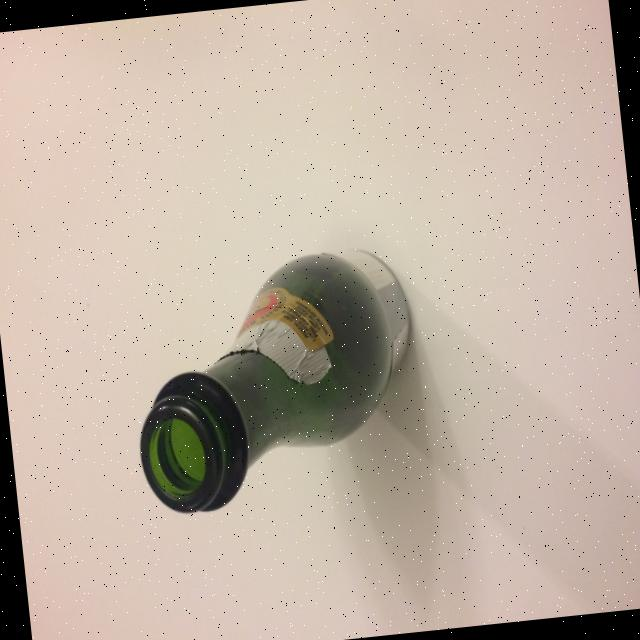glass: (120, 240, 428, 518)
